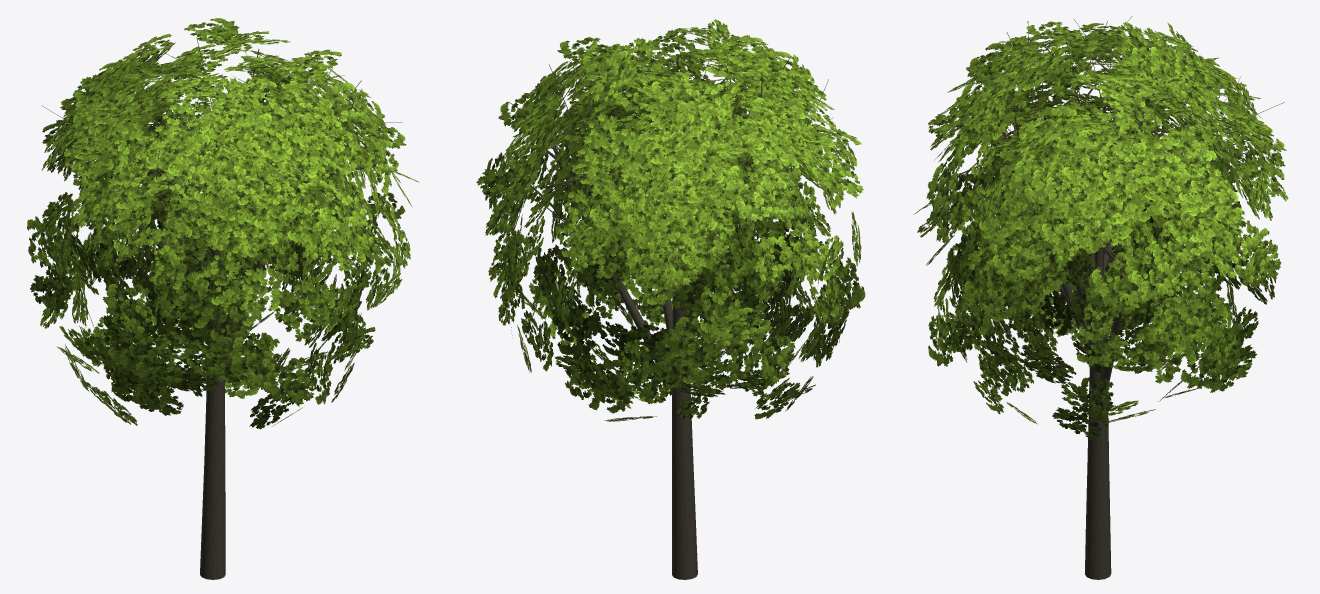
File: tree-large.glb
The picture shows the model from 3 angles, left to right: view 1: azimuth 30°, elevation 25°; view 2: azimuth 150°, elevation 25°; view 3: azimuth 270°, elevation 25°; orthographic projection. The views are drawn at different scales.
Parts seen in each view (by area): view 1: tree-large2; view 2: tree-large2; view 3: tree-large2.
Part boxes in pixels (bbox=[...]): tree-large2: bbox=[27, 18, 419, 579]; tree-large2: bbox=[476, 19, 865, 579]; tree-large2: bbox=[914, 16, 1288, 579].
Bounding box in the file's own units: 1.56 × 2.18 × 1.45.
2 materials, 2 textured.
